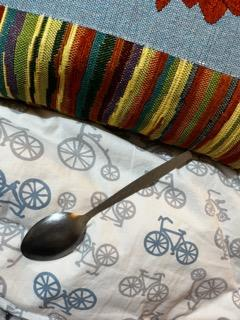spoon: (19, 148, 194, 262)
